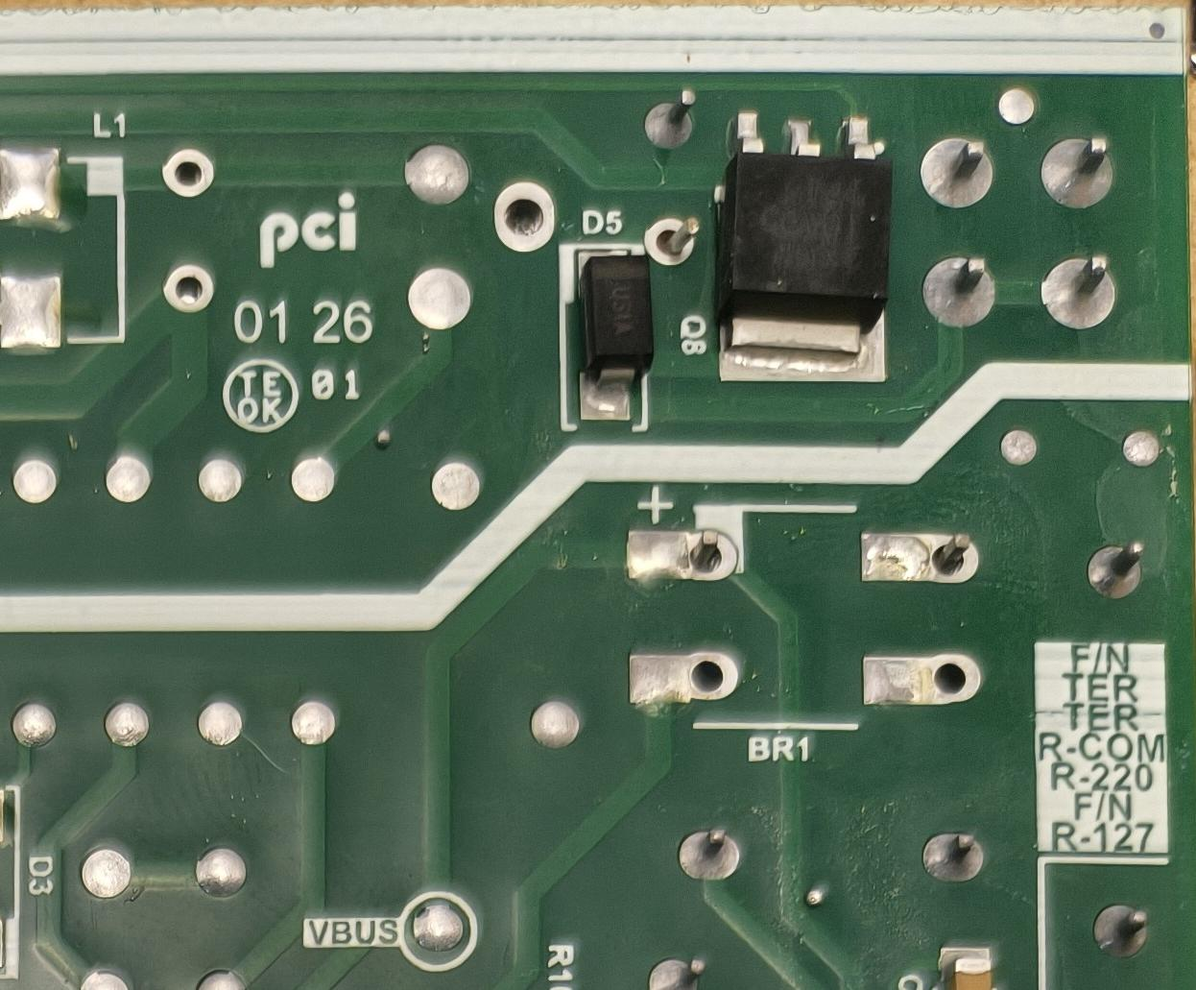Soldagem+: (1025, 139, 1136, 225), (911, 129, 1006, 217), (923, 238, 1005, 339), (1033, 251, 1125, 340), (1078, 883, 1159, 960), (908, 823, 1009, 884), (635, 93, 719, 164), (1086, 538, 1155, 605), (684, 821, 750, 886)
SoldagemFaltando: (612, 511, 751, 593), (852, 517, 977, 595), (632, 203, 705, 272)
